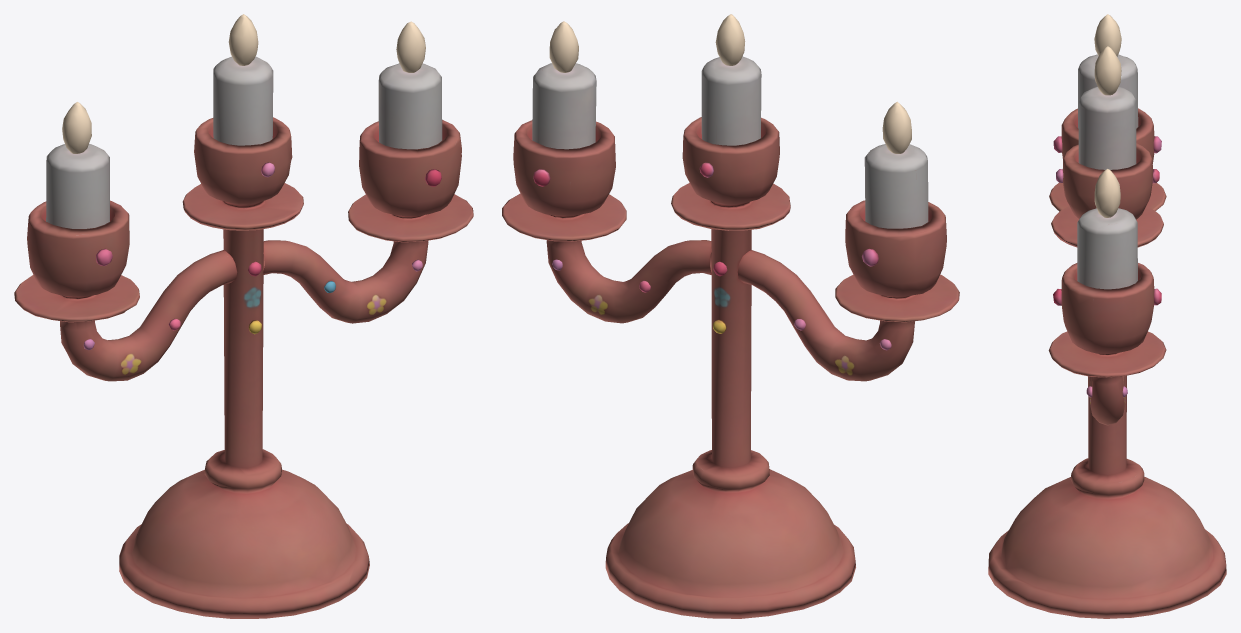
Rendered from candle-stand.glb.
The picture shows the model from 3 angles, left to right: view 1: azimuth 30°, elevation 25°; view 2: azimuth 150°, elevation 25°; view 3: azimuth 270°, elevation 25°; orthographic projection. The views are drawn at different scales.
Visible parts, largest first — view 1: geometry_0; view 2: geometry_0; view 3: geometry_0.
Part boxes in pixels (<box>): geometry_0: <box>14,14,473,618</box>; geometry_0: <box>502,14,959,618</box>; geometry_0: <box>988,14,1226,618</box>.
Size of the model in its own units: 0.8408 by 1 by 0.414.
1 material, 1 textured.
